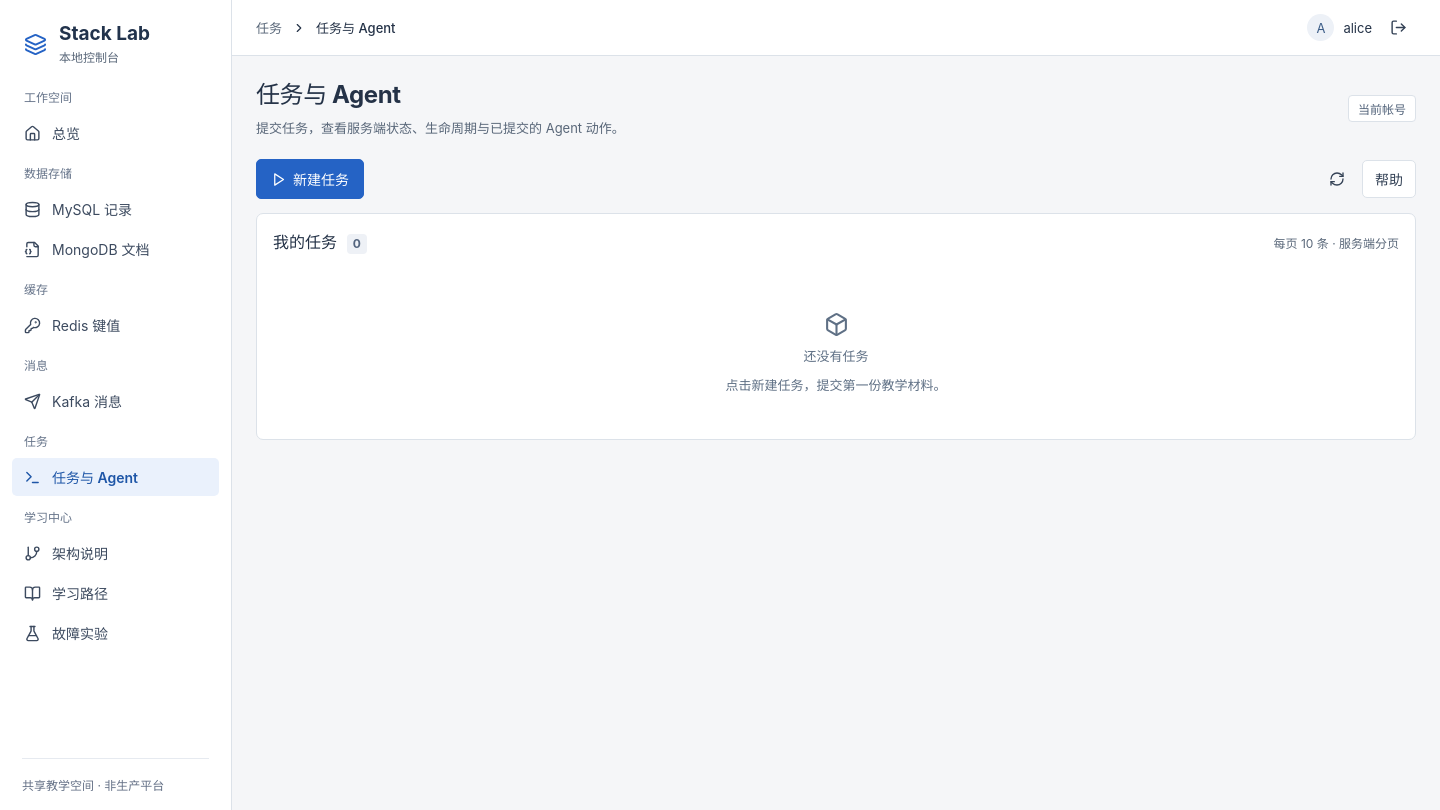
it: identity and bounded CSRF recovery › does not loop repeated csrf failures
Step 1. Click the button "新建任务" → click(310, 179), box [256, 159, 364, 199]
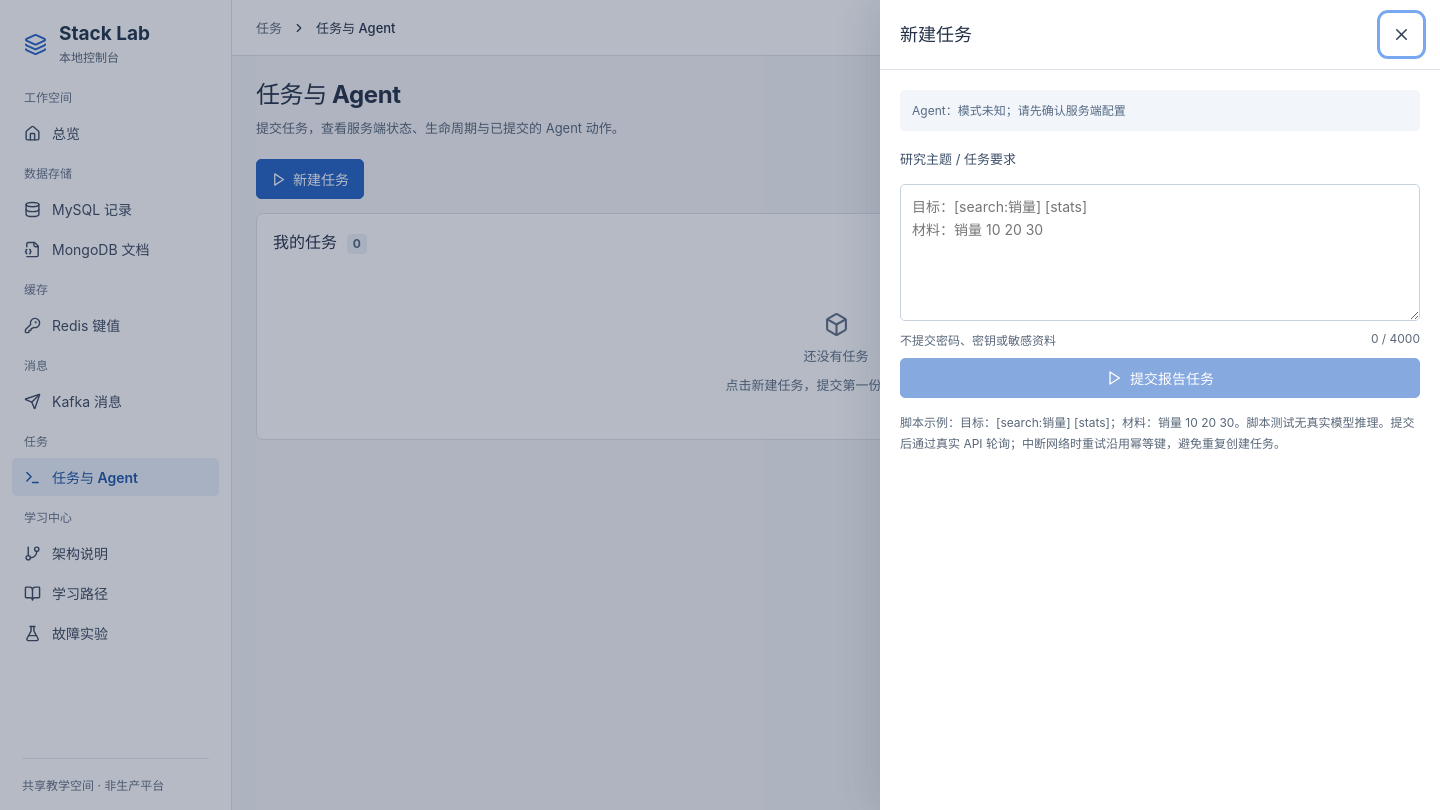
Step 2. Type "a task" into the text box labelled "研究主题 / 任务要求" → (1160, 253), box [900, 184, 1420, 322]
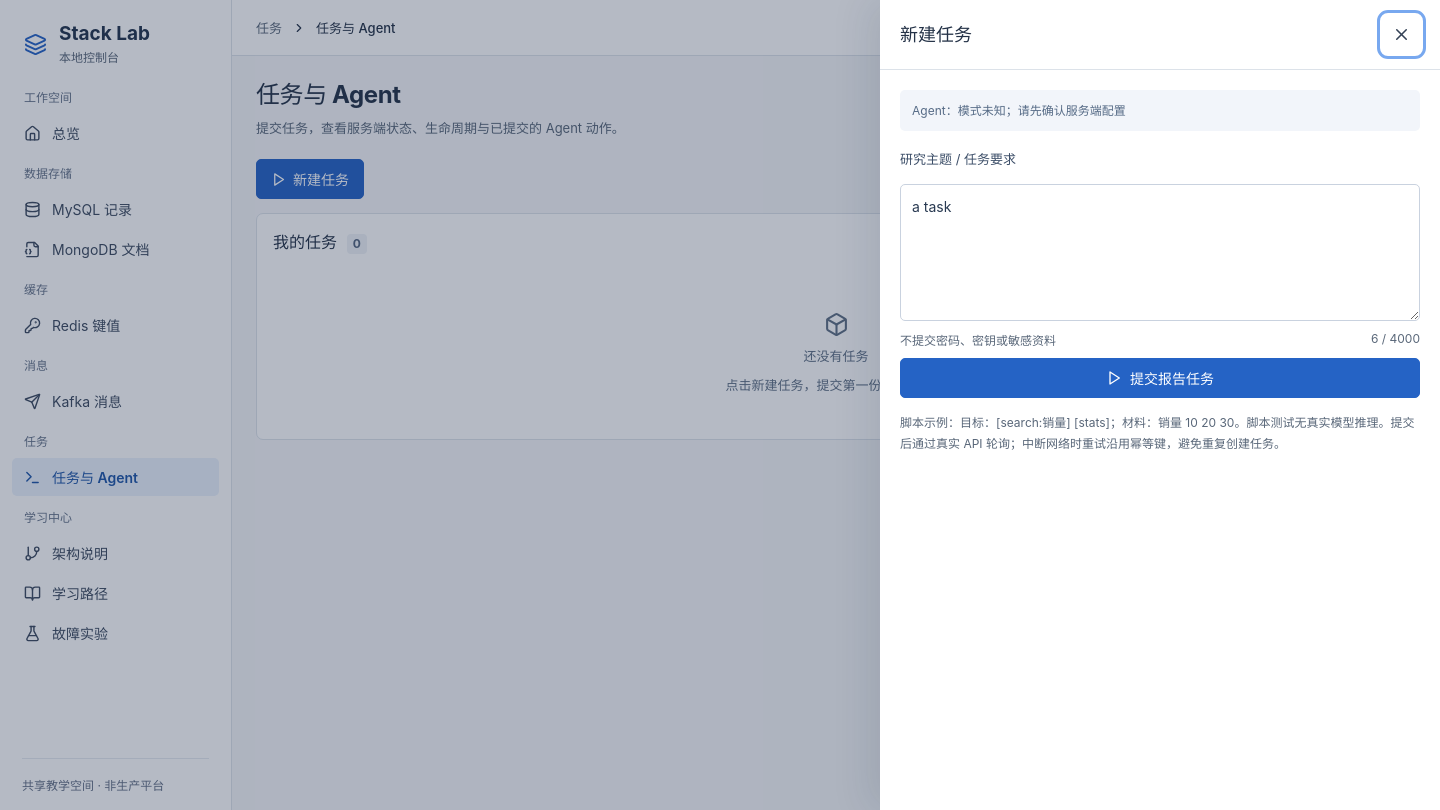
Step 3. Click the button "提交报告任务" → click(1160, 378), box [900, 358, 1420, 398]
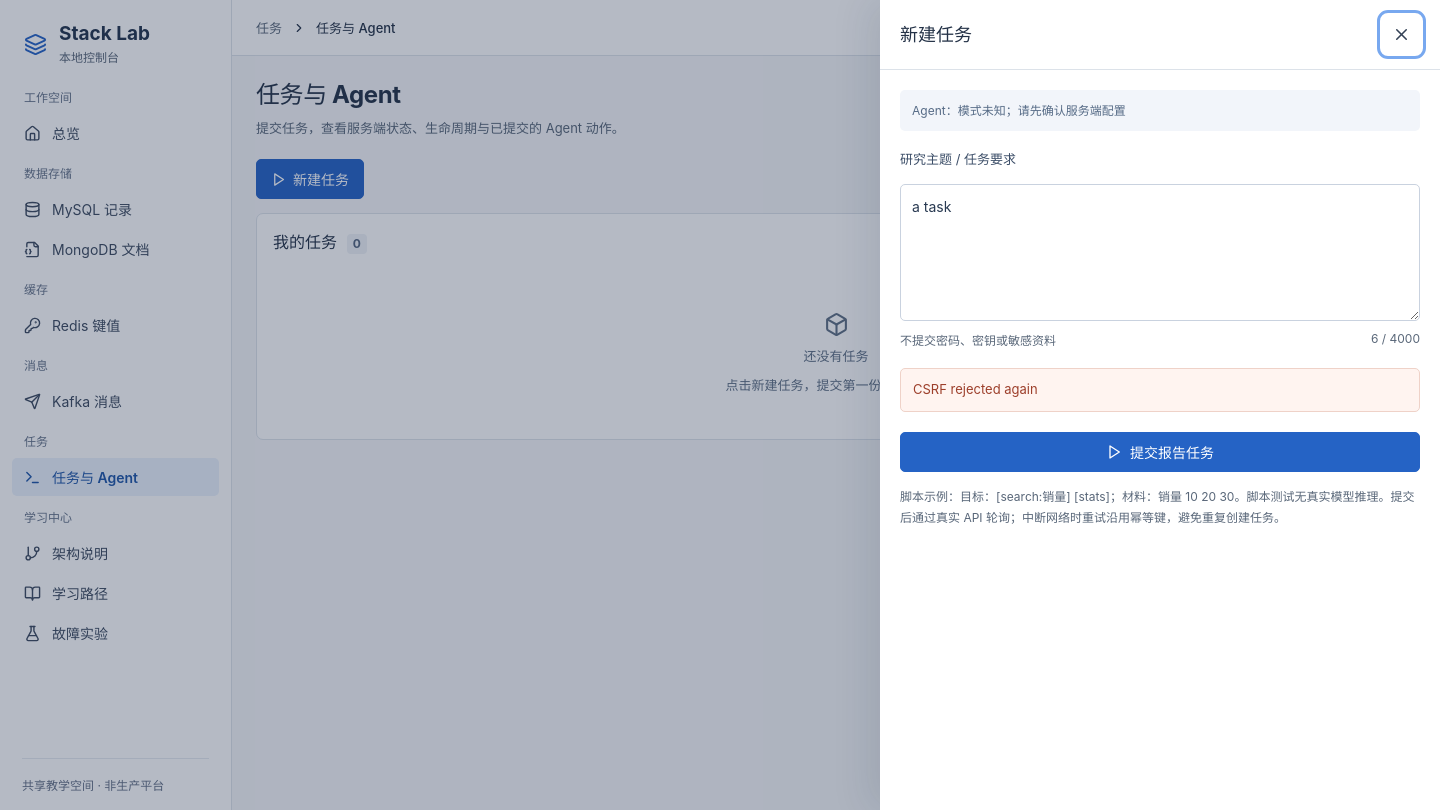
Check: the text "CSRF rejected again" is shown, box [900, 368, 1420, 412]
